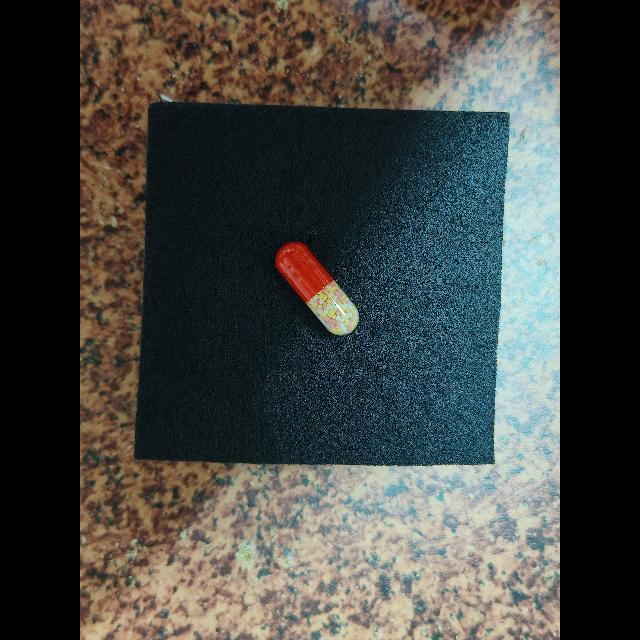Intact Capsule: (275, 242, 359, 336)
